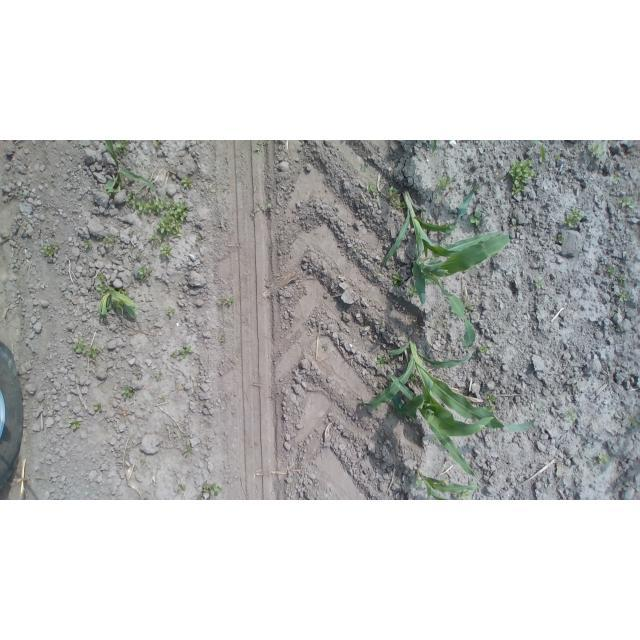Maize: (381, 184, 511, 349), (357, 335, 542, 433), (387, 373, 493, 476), (104, 140, 158, 194), (414, 468, 479, 501), (96, 283, 144, 321), (521, 141, 547, 164), (428, 140, 438, 154)
Weeds: (125, 186, 189, 246), (508, 158, 536, 196), (74, 337, 101, 358), (385, 184, 407, 209), (200, 482, 225, 500), (171, 343, 195, 361), (565, 208, 584, 229), (483, 394, 498, 415), (589, 142, 608, 158), (40, 243, 61, 257), (137, 265, 153, 283), (159, 242, 173, 259), (594, 453, 609, 468), (469, 210, 482, 227), (619, 196, 637, 208), (103, 235, 118, 249), (366, 182, 380, 197), (436, 176, 452, 189), (391, 271, 403, 287), (121, 384, 135, 397), (179, 175, 193, 187), (115, 140, 129, 152), (376, 354, 388, 368), (452, 490, 468, 500), (406, 284, 418, 297), (613, 274, 627, 285), (608, 264, 618, 278), (69, 420, 81, 431), (463, 300, 474, 312), (565, 409, 577, 420), (510, 216, 518, 232), (629, 416, 640, 427), (184, 443, 193, 456), (221, 297, 235, 305), (255, 140, 263, 154), (91, 401, 102, 411), (410, 374, 420, 385), (83, 240, 94, 249), (620, 291, 629, 302), (480, 343, 488, 355), (95, 272, 105, 281), (168, 306, 177, 316), (535, 278, 544, 288), (266, 202, 274, 212), (553, 235, 563, 243), (120, 288, 129, 296), (359, 164, 367, 173), (402, 416, 411, 424), (372, 272, 380, 281), (611, 175, 621, 182), (432, 436, 440, 444), (153, 140, 160, 148), (354, 248, 361, 256), (179, 484, 186, 492), (555, 154, 562, 161), (322, 344, 329, 351), (136, 252, 142, 260), (195, 236, 201, 244), (387, 412, 393, 420), (51, 266, 57, 273), (155, 372, 161, 378), (159, 395, 165, 401), (476, 185, 481, 192), (473, 470, 480, 475), (436, 323, 441, 328), (436, 195, 441, 200), (380, 180, 385, 184), (572, 385, 576, 388)
